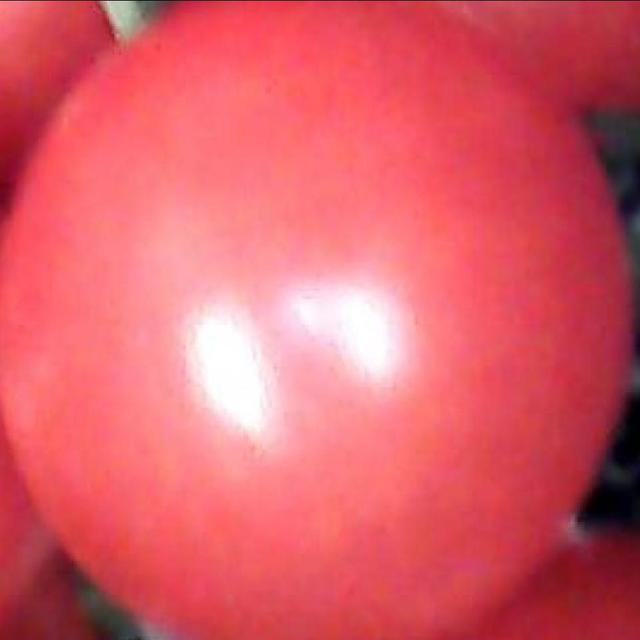Healthy Fruit: (0, 8, 421, 427)
